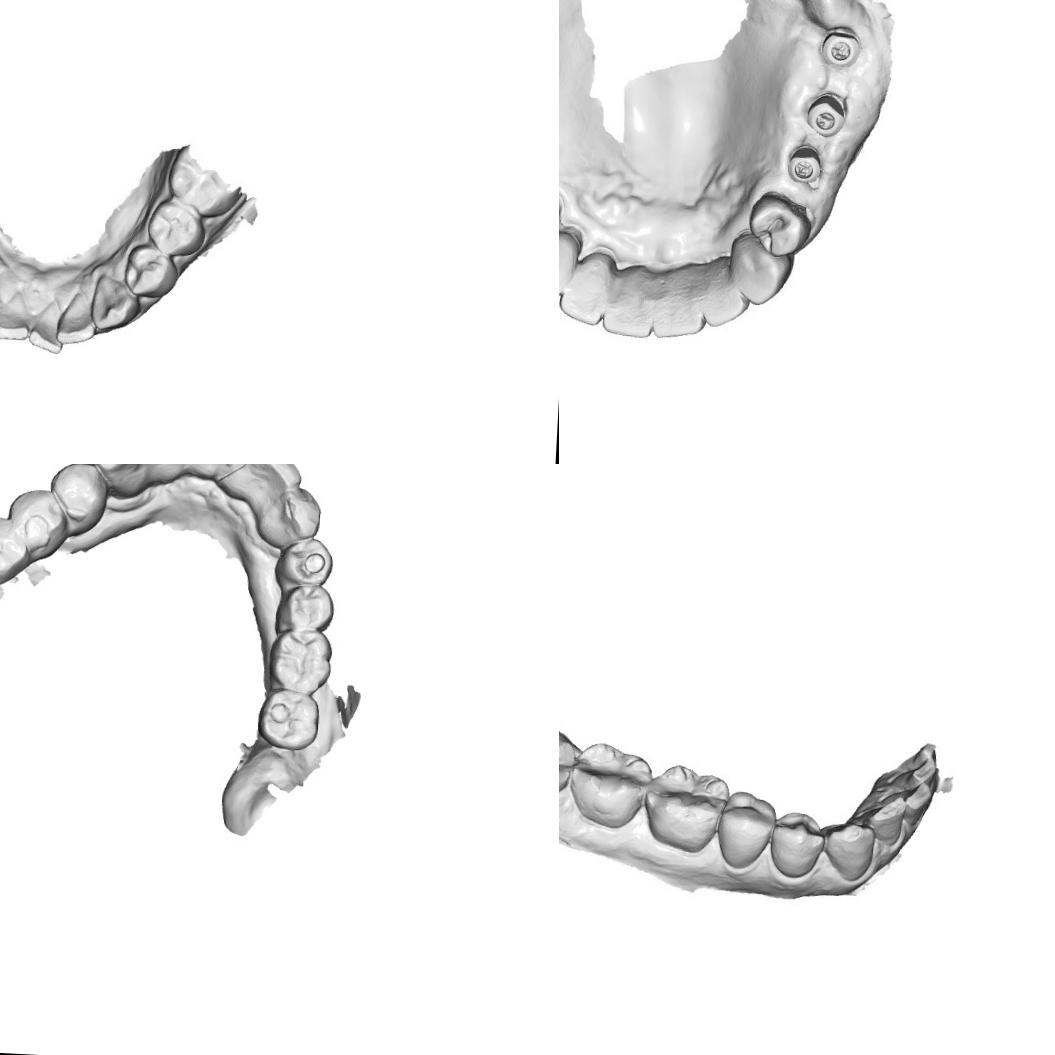canine: (728, 232, 794, 306), (256, 485, 322, 550), (822, 816, 878, 882), (90, 274, 140, 334), (88, 464, 152, 499), (559, 229, 579, 303)
implant: (802, 94, 853, 140), (816, 27, 862, 69), (783, 144, 824, 186)
incisor: (650, 280, 710, 342), (600, 282, 653, 340), (559, 266, 607, 328), (702, 268, 750, 328), (864, 794, 906, 850), (26, 298, 66, 356), (898, 781, 937, 837), (58, 295, 100, 346), (246, 464, 301, 494), (0, 294, 31, 343), (907, 756, 941, 796)
molar: (563, 737, 652, 834), (642, 756, 725, 856), (164, 140, 241, 218), (265, 628, 333, 691), (255, 689, 321, 752), (0, 512, 32, 582)
premolar: (709, 788, 778, 866), (2, 484, 70, 560), (45, 464, 108, 540), (744, 190, 812, 258), (766, 804, 825, 878), (143, 198, 208, 258), (119, 240, 179, 300), (273, 532, 334, 589), (274, 581, 337, 634)
